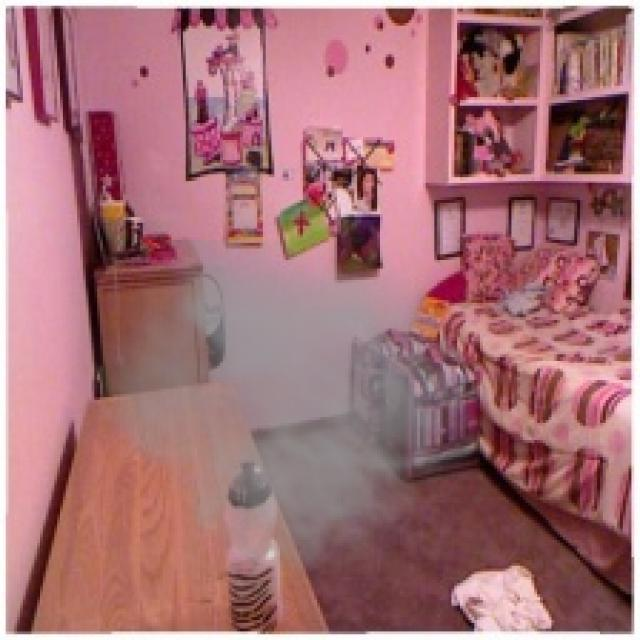Smoke: (77, 239, 503, 612)
